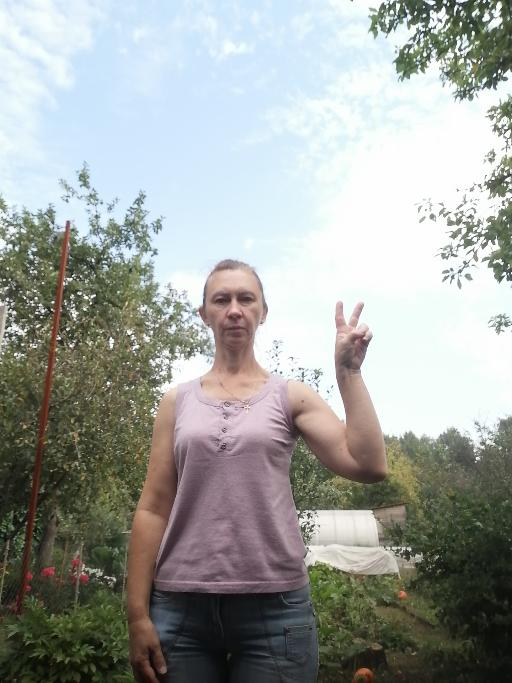no_gesture: (124, 615, 168, 680)
peace: (329, 295, 379, 374)
